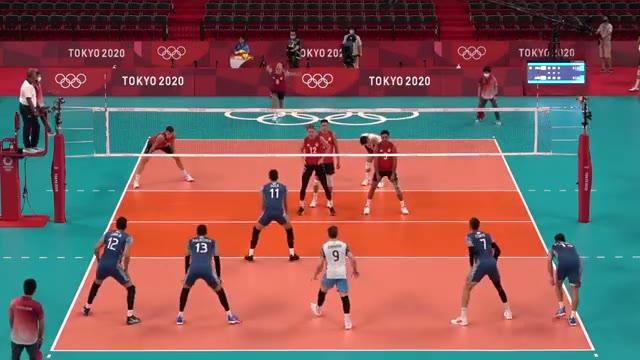ball: (240, 49, 252, 62)
